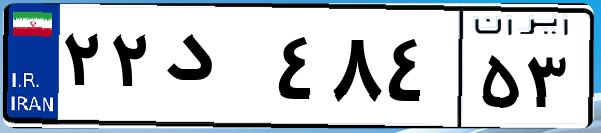2: (57, 26, 110, 100), (110, 28, 158, 98)
3: (525, 38, 570, 115)
4: (270, 28, 330, 110), (385, 28, 445, 110)
5: (475, 38, 525, 113)
8: (330, 28, 385, 110)
د: (158, 20, 270, 120)
